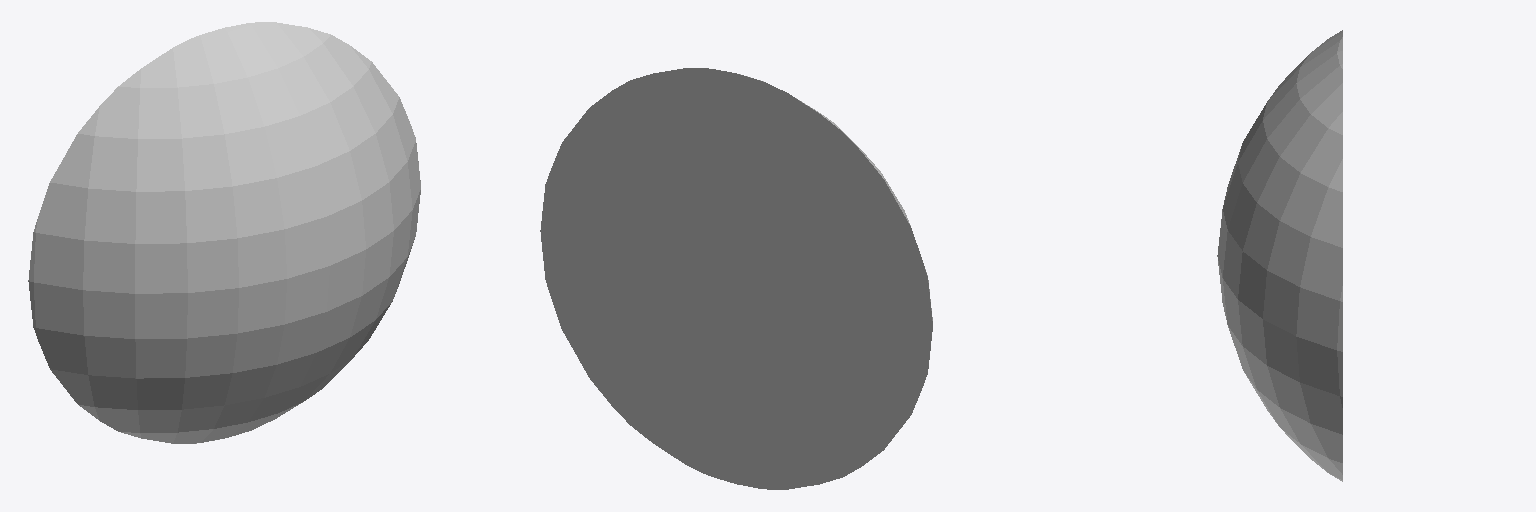
The model's file is Wackelauge1.obj.
3 views of the same model, side by side, from view 1: azimuth 30°, elevation 25°; view 2: azimuth 150°, elevation 25°; view 3: azimuth 270°, elevation 25° (orthographic).
Parts seen in each view (by area): view 1: Wackelauge.001_Sphere.002; view 2: Wackelauge.001_Sphere.002; view 3: Wackelauge.001_Sphere.002.
Boxes of the visible parts, <box> form: Wackelauge.001_Sphere.002: <box>28,22,420,443</box>; Wackelauge.001_Sphere.002: <box>540,68,932,489</box>; Wackelauge.001_Sphere.002: <box>1217,30,1342,481</box>.
Size of the model in its own units: 0.1994 by 0.1994 by 0.055.